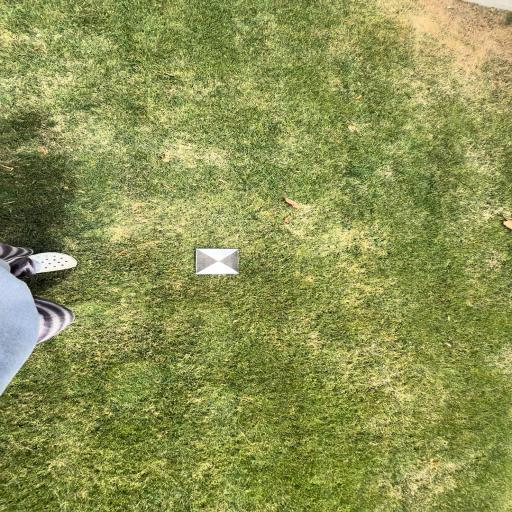target: (198, 248, 238, 274)
